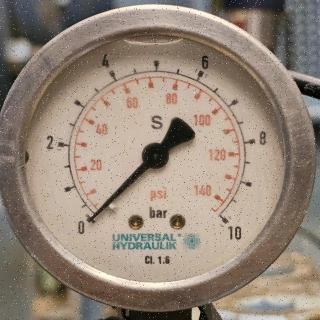gauge: (14, 20, 298, 301), (207, 203, 243, 241), (73, 204, 107, 236), (140, 142, 170, 170), (83, 211, 99, 225)
